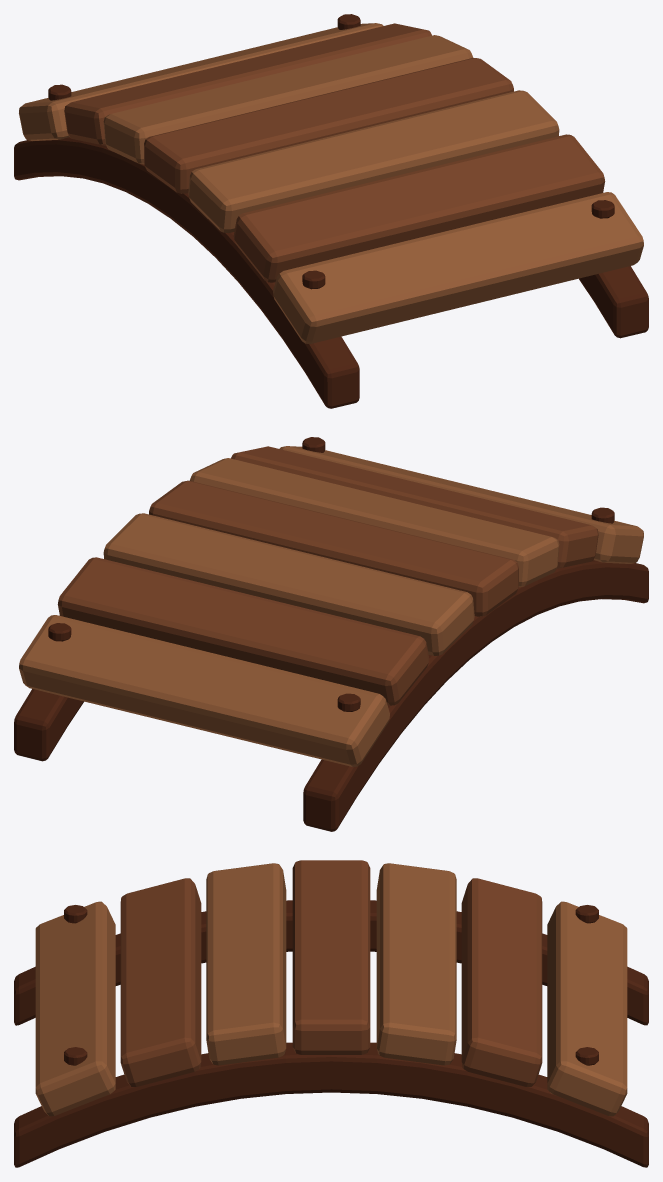
The model's file is SmallWoodenBridge.glb.
3 views of the same model, one above another, from view 1: azimuth 30°, elevation 25°; view 2: azimuth 150°, elevation 25°; view 3: azimuth 270°, elevation 25° (orthographic).
Parts seen in each view (by area): view 1: SmallWoodenBridge_PlanksLight, SmallWoodenBridge_PlanksWarm, SmallWoodenBridge_Stringers, SmallWoodenBridge_Pegs; view 2: SmallWoodenBridge_PlanksLight, SmallWoodenBridge_PlanksWarm, SmallWoodenBridge_Stringers, SmallWoodenBridge_Pegs; view 3: SmallWoodenBridge_PlanksLight, SmallWoodenBridge_PlanksWarm, SmallWoodenBridge_Stringers, SmallWoodenBridge_Pegs.
Part boxes in pixels (x1,y1,x2,y2): SmallWoodenBridge_PlanksLight: (19, 23, 643, 343); SmallWoodenBridge_PlanksWarm: (64, 23, 605, 282); SmallWoodenBridge_Stringers: (14, 137, 648, 408); SmallWoodenBridge_Pegs: (48, 14, 614, 289); SmallWoodenBridge_PlanksLight: (19, 446, 643, 766); SmallWoodenBridge_PlanksWarm: (57, 446, 598, 705); SmallWoodenBridge_Stringers: (14, 560, 648, 831); SmallWoodenBridge_Pegs: (48, 437, 614, 711); SmallWoodenBridge_PlanksLight: (35, 863, 627, 1116); SmallWoodenBridge_PlanksWarm: (120, 860, 542, 1086); SmallWoodenBridge_Stringers: (14, 900, 648, 1167); SmallWoodenBridge_Pegs: (64, 905, 598, 1065).
Size of the model in its own units: 0.844 by 0.3472 by 1.34.
